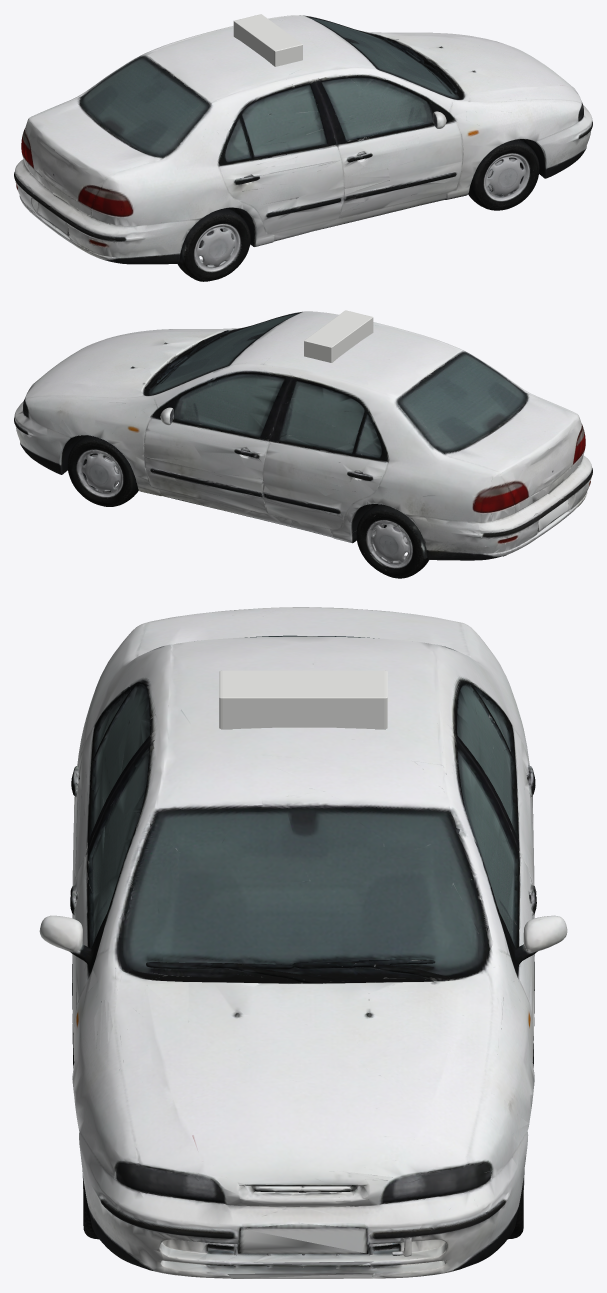
File: taxi-barao__01a16c1b.glb
3 views of the same model, one above another, from view 1: azimuth 30°, elevation 25°; view 2: azimuth 150°, elevation 25°; view 3: azimuth 270°, elevation 25° (orthographic). The views are drawn at different scales.
Parts seen in each view (by area): view 1: taxi; view 2: taxi; view 3: taxi.
Boxes of the visible parts, box(x1,y1,x2,y2) form: taxi: box(14, 14, 592, 281); taxi: box(14, 310, 592, 578); taxi: box(39, 607, 567, 1278).
Bounding box in the file's own units: 4.39 × 1.5 × 1.95.
3 materials, 1 textured.
